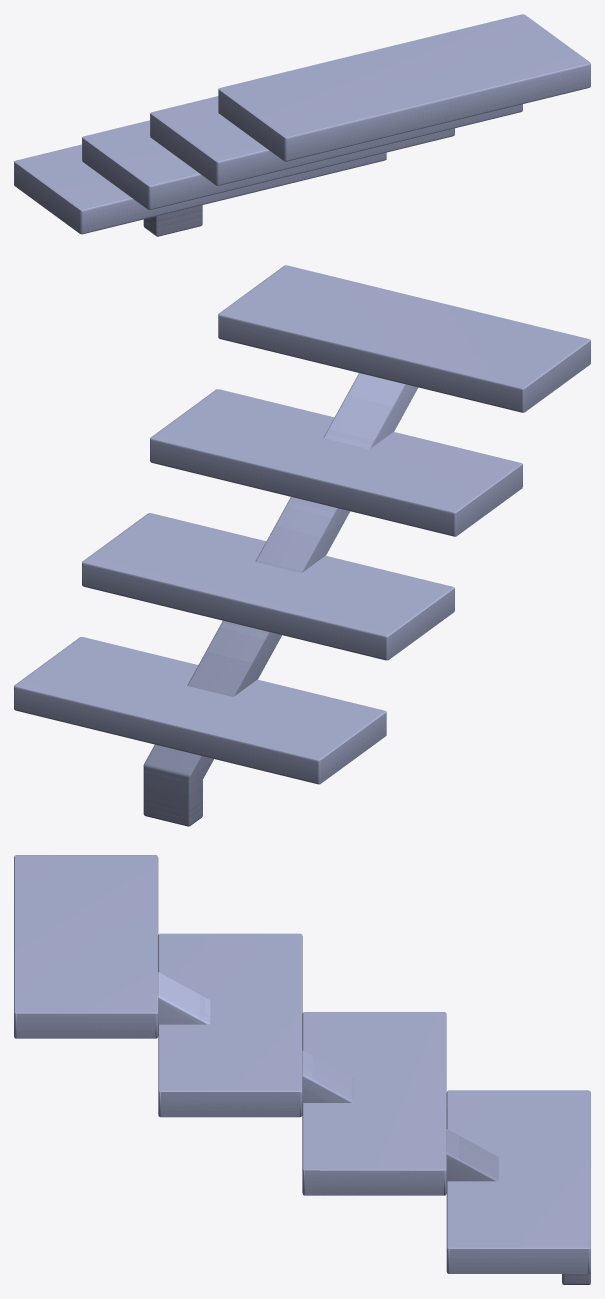
File: stairs-center-short.glb
The picture shows the model from 3 angles, top to bottom: view 1: azimuth 30°, elevation 25°; view 2: azimuth 150°, elevation 25°; view 3: azimuth 270°, elevation 25°; orthographic projection. The views are drawn at different scales.
Parts seen in each view (by area): view 1: stairs-center-short; view 2: stairs-center-short; view 3: stairs-center-short.
Part boxes in pixels (x1=…): stairs-center-short: x1=14, y1=14, x2=590, y2=236; stairs-center-short: x1=14, y1=265, x2=590, y2=826; stairs-center-short: x1=14, y1=855, x2=590, y2=1284.
Bounding box in the file's own units: 1.3 × 1.3 × 2.
Materials: 1 (1 with a texture image).
